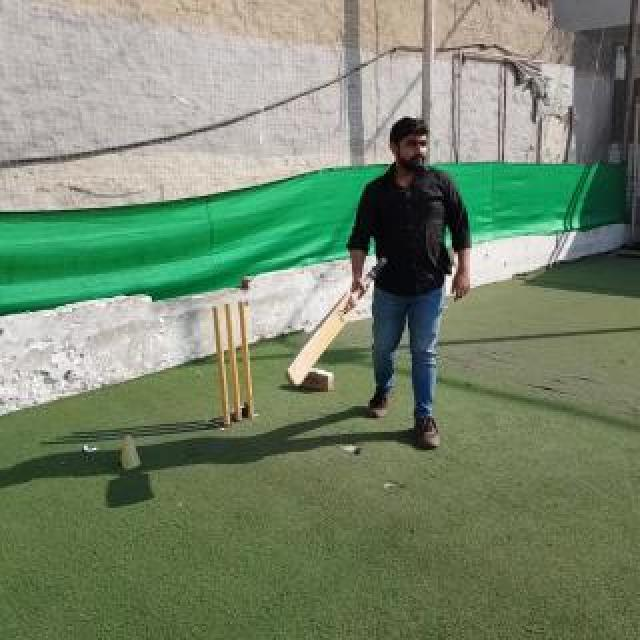bat: (285, 258, 387, 386)
